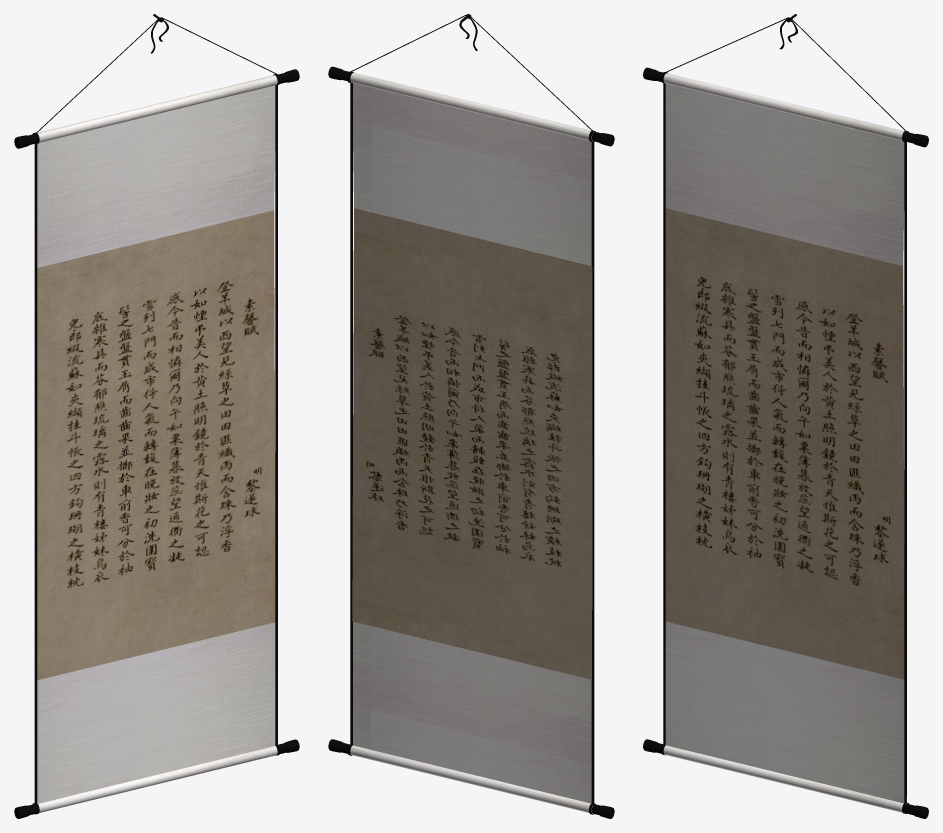
Rendered from MD-明书法.fbx.
3 views of the same model, side by side, from view 1: azimuth 30°, elevation 25°; view 2: azimuth 150°, elevation 25°; view 3: azimuth 330°, elevation 25° (orthographic).
Visible parts, largest first — view 1: MD-明书法; view 2: MD-明书法; view 3: MD-明书法.
Part boxes in pixels (x1=…): MD-明书法: x1=14, y1=14, x2=299, y2=818; MD-明书法: x1=328, y1=14, x2=614, y2=818; MD-明书法: x1=643, y1=14, x2=928, y2=818.
Bounding box in the file's own units: 0.6675 × 0.0374 × 1.74.
